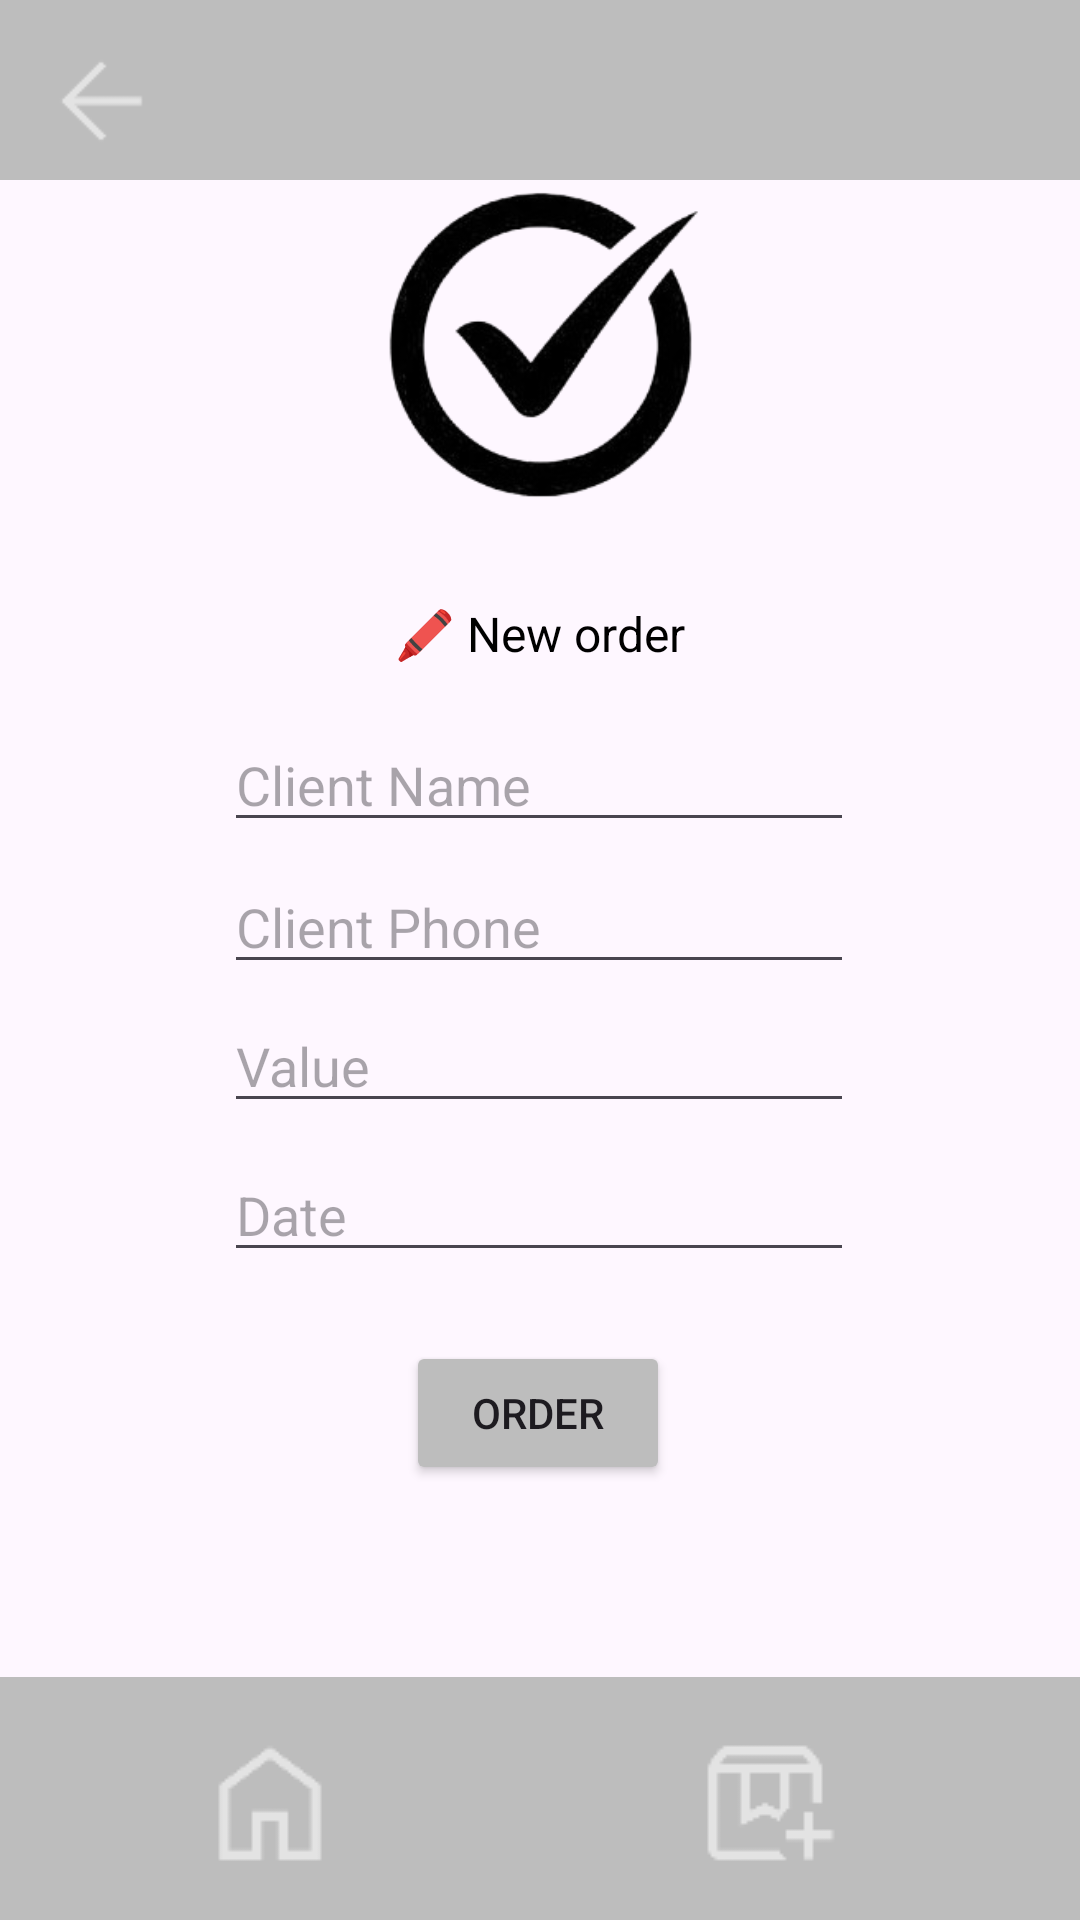

Point at icon controls on the screen. Image size 1080px×1920px, points as (x=x, y=y).
arrow back: (x=102, y=101)
box add: (x=770, y=1803)
home: (x=270, y=1804)
